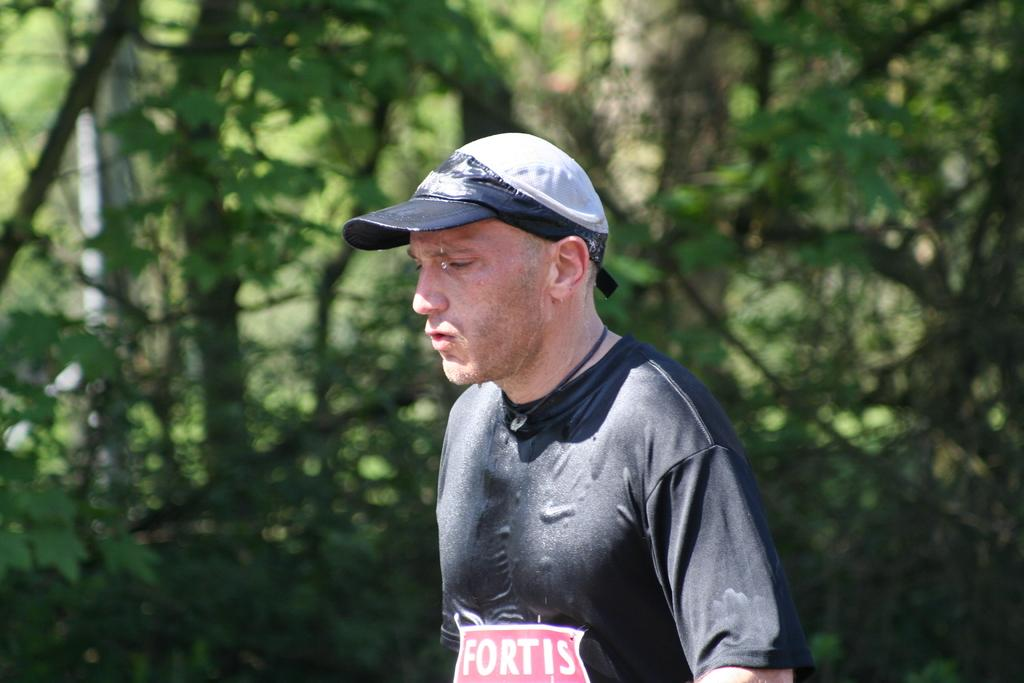Hat: (340, 132, 614, 294)
